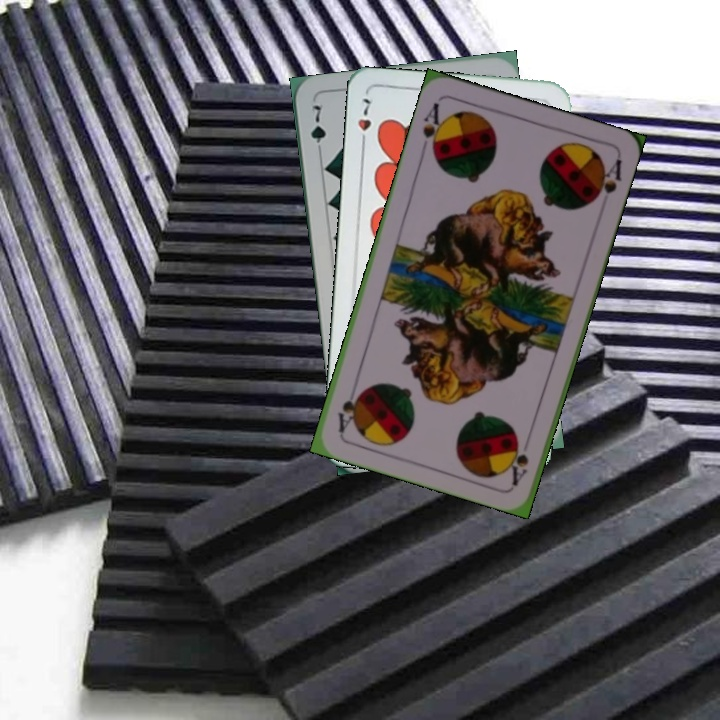G7: (307, 100, 329, 159)
H7: (353, 94, 374, 151)
SA: (417, 98, 448, 158), (507, 435, 531, 488)
